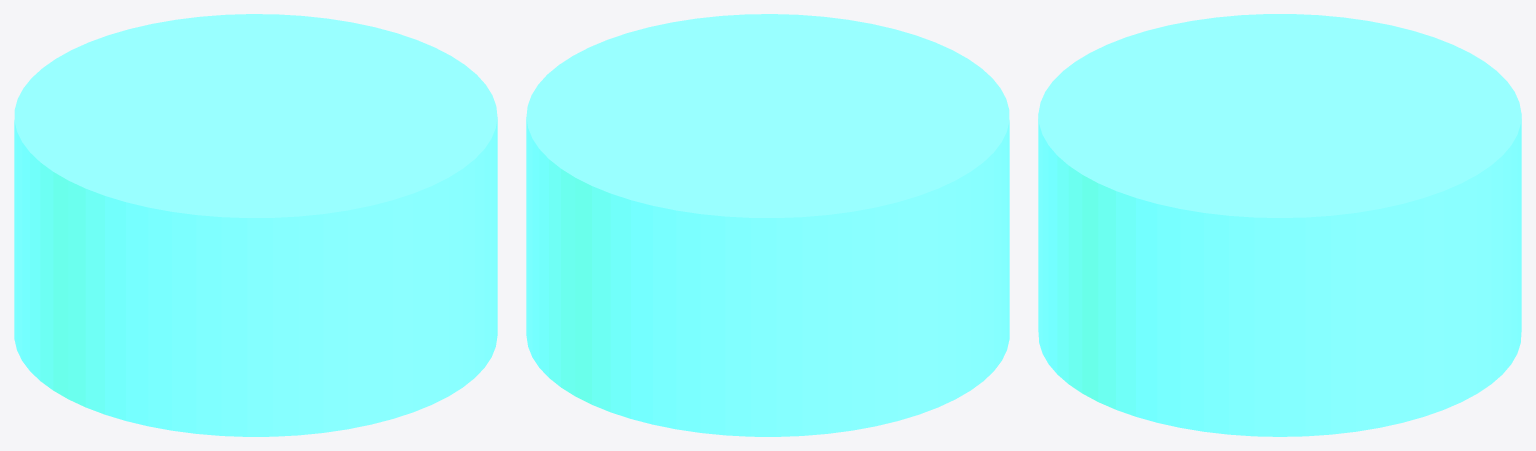
The model's file is cylinder_cyan.dae.
3 views of the same model, side by side, from view 1: azimuth 30°, elevation 25°; view 2: azimuth 150°, elevation 25°; view 3: azimuth 270°, elevation 25° (orthographic).
Parts seen in each view (by area): view 1: cylinder; view 2: cylinder; view 3: cylinder.
Boxes of the visible parts, x1,y1,x2,y2 form: cylinder: (14, 14, 497, 436); cylinder: (526, 14, 1009, 436); cylinder: (1038, 14, 1521, 436).
Size of the model in its own units: 0.01 by 0.01 by 0.005.
